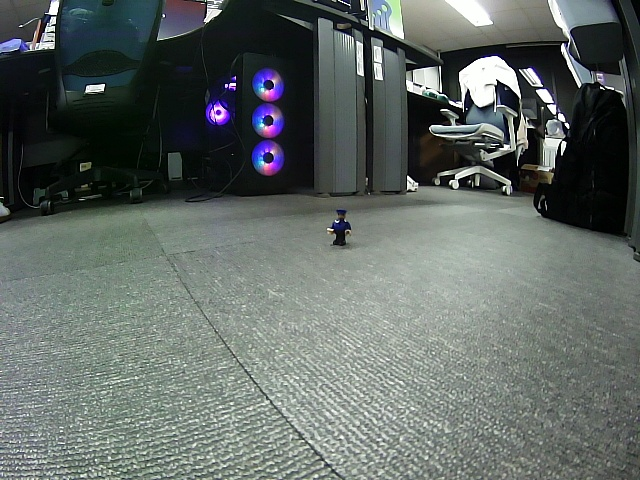person: (327, 209, 351, 247)
